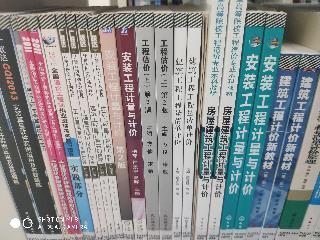book-spine: (0, 13, 65, 240), (227, 11, 286, 240), (9, 16, 69, 240), (17, 16, 76, 240), (27, 16, 84, 240), (253, 54, 320, 240), (40, 15, 95, 240), (240, 52, 300, 240), (216, 12, 265, 240), (202, 0, 247, 240), (56, 15, 102, 240), (66, 14, 108, 240), (191, 0, 229, 240), (76, 14, 116, 240), (99, 15, 134, 240), (89, 17, 123, 240), (116, 14, 147, 240), (0, 92, 45, 240), (177, 13, 202, 239), (136, 14, 160, 240), (168, 14, 188, 239), (155, 14, 173, 240)
